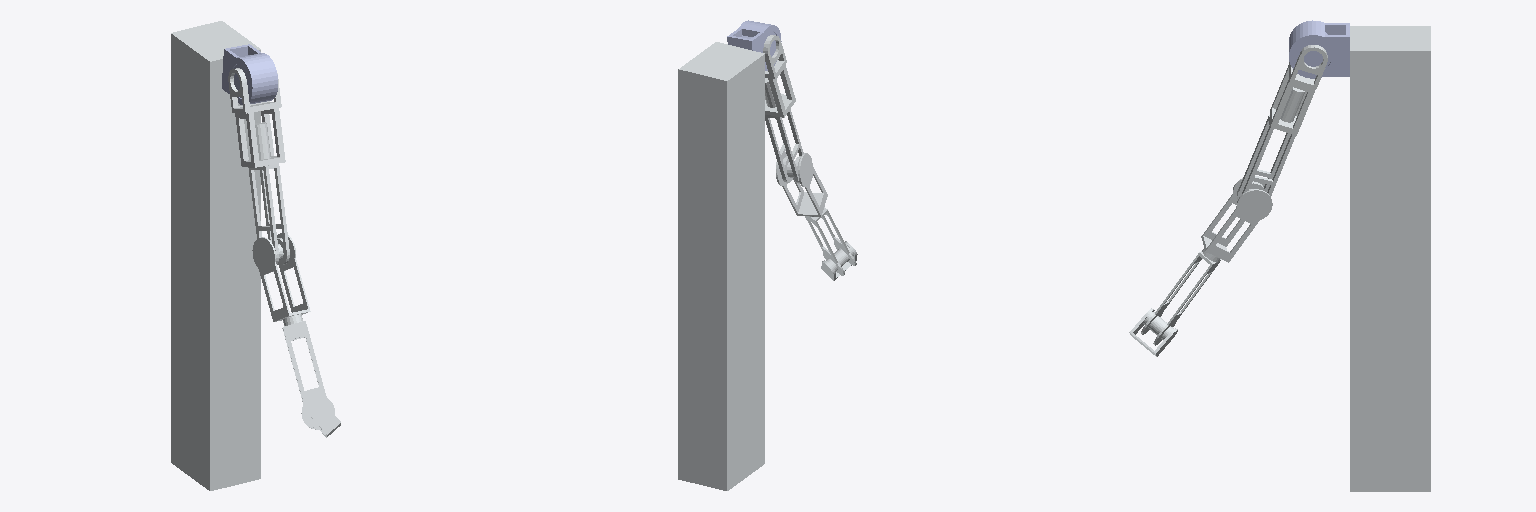
robot.urdf — koboker_5:
<robot
  name="koboker_5">
  <link
    name="base_link">
    <inertial>
      <origin
        xyz="0.075 -0.100043179942263 0.600223750609909"
        rpy="0 0 0" />
      <mass
        value="97.2381703507411" />
      <inertia
        ixx="12.001"
        ixy="0"
        ixz="0"
        iyy="0.50672"
        iyz="0.0023933"
        izz="11.859" />
    </inertial>
    <visual>
      <origin
        xyz="0 0 0"
        rpy="0 0 0" />
      <geometry>
        <mesh
          filename="package://koboker_5/meshes/base_link.STL" />
      </geometry>
      <material
        name="">
        <color
          rgba="0.898039215686275 0.917647058823529 0.929411764705882 1" />
      </material>
    </visual>
    <collision>
      <origin
        xyz="0 0 0"
        rpy="0 0 0" />
      <geometry>
        <mesh
          filename="package://koboker_5/meshes/base_link.STL" />
      </geometry>
    </collision>
  </link>
  <link
    name="Link_2">
    <inertial>
      <origin
        xyz="0 2.22044604925031E-16 0.0828639343196872"
        rpy="0 0 0" />
      <mass
        value="2.5152856908757" />
      <inertia
        ixx="0.031093"
        ixy="0"
        ixz="0"
        iyy="0.022389"
        iyz="0.011463"
        izz="0.011462" />
    </inertial>
    <visual>
      <origin
        xyz="0 0 0"
        rpy="0 0 0" />
      <geometry>
        <mesh
          filename="package://koboker_5/meshes/Link_2.STL" />
      </geometry>
      <material
        name="">
        <color
          rgba="0.792156862745098 0.819607843137255 0.933333333333333 1" />
      </material>
    </visual>
    <collision>
      <origin
        xyz="0 0 0"
        rpy="0 0 0" />
      <geometry>
        <mesh
          filename="package://koboker_5/meshes/Link_2.STL" />
      </geometry>
    </collision>
  </link>
  <joint
    name="Joint_1"
    type="continuous">
    <origin
      xyz="0.0750000000000002 -0.2 1.17"
      rpy="-1.5707963267949 -0.0608144257926208 -3.14159265358979" />
    <parent
      link="base_link" />
    <child
      link="Link_2" />
    <axis
      xyz="0 0 1" />
    <dynamics friction="0.2"/>
  </joint>
  <link
    name="Link_3">
    <inertial>
      <origin
        xyz="-4.24573570745324E-16 -0.12234706292479 -2.22044604925031E-16"
        rpy="0 0 0" />
      <mass
        value="1.44688363105601" />
      <inertia
        ixx="0.029297"
        ixy="0"
        ixz="0"
        iyy="0.0021158"
        iyz="0"
        izz="0.030125" />
    </inertial>
    <visual>
      <origin
        xyz="0 0 0"
        rpy="0 0 0" />
      <geometry>
        <mesh
          filename="package://koboker_5/meshes/Link_3.STL" />
      </geometry>
      <material
        name="">
        <color
          rgba="0.898039215686275 0.917647058823529 0.929411764705882 1" />
      </material>
    </visual>
    <collision>
      <origin
        xyz="0 0 0"
        rpy="0 0 0" />
      <geometry>
        <mesh
          filename="package://koboker_5/meshes/Link_3.STL" />
      </geometry>
    </collision>
  </link>
  <joint
    name="Joint_2"
    type="continuous">
    <origin
      xyz="0 0 0.0889999999999996"
      rpy="-2.79585728312551 5.41233724504764E-16 9.08995101411847E-16" />
    <parent
      link="Link_2" />
    <child
      link="Link_3" />
    <axis
      xyz="1 0 0" />
    <dynamics friction="0.2"/>
  </joint>
  <link
    name="Link_4">
    <inertial>
      <origin
        xyz="0 -0.155460108095431 -0.000182357215518236"
        rpy="0 0 0" />
      <mass
        value="0.461909268888393" />
      <inertia
        ixx="0.0079961"
        ixy="0"
        ixz="0"
        iyy="0.00042806"
        iyz="3.3548E-07"
        izz="0.008157" />
    </inertial>
    <visual>
      <origin
        xyz="0 0 0"
        rpy="0 0 0" />
      <geometry>
        <mesh
          filename="package://koboker_5/meshes/Link_4.STL" />
      </geometry>
      <material
        name="">
        <color
          rgba="0.898039215686275 0.917647058823529 0.929411764705882 1" />
      </material>
    </visual>
    <collision>
      <origin
        xyz="0 0 0"
        rpy="0 0 0" />
      <geometry>
        <mesh
          filename="package://koboker_5/meshes/Link_4.STL" />
      </geometry>
    </collision>
  </link>
  <joint
    name="Joint_3"
    type="continuous">
    <origin
      xyz="0 -0.191518860577662 0"
      rpy="2.36166624164541E-14 -1.41027329486371 -2.32693585573886E-14" />
    <parent
      link="Link_3" />
    <child
      link="Link_4" />
    <axis
      xyz="0 -1 0" />
    <dynamics friction="0.2"/>
  </joint>
  <link
    name="Link_5">
    <inertial>
      <origin
        xyz="-0.0660792538271653 -2.22044604925031E-16 -3.88578058618805E-16"
        rpy="0 0 0" />
      <mass
        value="0.72944846617856" />
      <inertia
        ixx="0.0015693"
        ixy="0"
        ixz="-0.00010415"
        iyy="0.006018"
        iyz="0"
        izz="0.0049422" />
    </inertial>
    <visual>
      <origin
        xyz="0 0 0"
        rpy="0 0 0" />
      <geometry>
        <mesh
          filename="package://koboker_5/meshes/Link_5.STL" />
      </geometry>
      <material
        name="">
        <color
          rgba="0.898039215686275 0.917647058823529 0.929411764705882 1" />
      </material>
    </visual>
    <collision>
      <origin
        xyz="0 0 0"
        rpy="0 0 0" />
      <geometry>
        <mesh
          filename="package://koboker_5/meshes/Link_5.STL" />
      </geometry>
    </collision>
  </link>
  <joint
    name="Joint_4"
    type="continuous">
    <origin
      xyz="0 -0.253481139422344 0"
      rpy="-3.14159265358979 1.2490009027033E-16 1.33135760141189" />
    <parent
      link="Link_4" />
    <child
      link="Link_5" />
    <axis
      xyz="0 0 1" />
    <dynamics friction="0.2"/>
  </joint>
  <link
    name="Link_6">
    <inertial>
      <origin
        xyz="0.167918427954662 -2.83106871279415E-15 1.33226762955019E-15"
        rpy="0 0 0" />
      <mass
        value="0.318922946362706" />
      <inertia
        ixx="0.0044401"
        ixy="0"
        ixz="-3.4407E-05"
        iyy="0.0031355"
        iyz="0"
        izz="0.0029936" />
    </inertial>
    <visual>
      <origin
        xyz="0 0 0"
        rpy="0 0 0" />
      <geometry>
        <mesh
          filename="package://koboker_5/meshes/Link_6.STL" />
      </geometry>
      <material
        name="">
        <color
          rgba="0.898039215686275 0.917647058823529 0.929411764705882 1" />
      </material>
    </visual>
    <collision>
      <origin
        xyz="0 0 0"
        rpy="0 0 0" />
      <geometry>
        <mesh
          filename="package://koboker_5/meshes/Link_6.STL" />
      </geometry>
    </collision>
  </link>
  <joint
    name="Joint_5"
    type="continuous">
    <origin
      xyz="-0.153390908669555 0 0"
      rpy="-0.956288619556786 -3.38618022510673E-15 -3.14159265358979" />
    <parent
      link="Link_5" />
    <child
      link="Link_6" />
    <axis
      xyz="1 0 0" />
    <dynamics friction="0.2"/>
  </joint>
  <link
    name="Link_7">
    <inertial>
      <origin
        xyz="-0.013147 -4.1633E-15 -3.3307E-16"
        rpy="0 0 0" />
      <mass
        value="0.43615" />
      <inertia
        ixx="0.0011943"
        ixy="0"
        ixz="8.9952E-05"
        iyy="0.0013881"
        iyz="0"
        izz="0.00031407" />
    </inertial>
    <visual>
      <origin
        xyz="0 0 0"
        rpy="0 0 0" />
      <geometry>
        <mesh
          filename="package://koboker_5/meshes/Link_7.STL" />
      </geometry>
      <material
        name="">
        <color
          rgba="0.89804 0.91765 0.92941 1" />
      </material>
    </visual>
    <collision>
      <origin
        xyz="0 0 0"
        rpy="0 0 0" />
      <geometry>
        <mesh
          filename="package://koboker_5/meshes/Link_7.STL" />
      </geometry>
    </collision>
  </link>
  <joint
    name="Joint_6"
    type="continuous">
    <origin
      xyz="0.267609091330445 0 0"
      rpy="1.67227343084164E-15 -2.44249065417534E-15 -2.68069262354812" />
    <parent
      link="Link_6" />
    <child
      link="Link_7" />
    <axis
      xyz="0 0 1" />
    <dynamics friction="0.2"/>
  </joint>
  <gazebo reference="base_link">
    <selfCollide>true</selfCollide>
  </gazebo>
  <gazebo reference="Link_2">
    <selfCollide>true</selfCollide>
  </gazebo>
  <gazebo reference="Link_3">
    <selfCollide>true</selfCollide>
  </gazebo>
  <gazebo reference="Link_4">
    <selfCollide>true</selfCollide>
  </gazebo>
  <gazebo reference="Link_5">
    <selfCollide>true</selfCollide>
  </gazebo>
  <gazebo reference="Link_6">
    <selfCollide>true</selfCollide>
  </gazebo>
  <gazebo reference="Link_7">
    <selfCollide>true</selfCollide>
  </gazebo>

  <transmission name="tran1">
    <type>transmission_interface/SimpleTransmission</type>
    <joint name="Joint_1">
      <hardwareInterface>hardware_interface/EffortJointInterface</hardwareInterface>
    </joint>
    <actuator name="motor1">
      <hardwareInterface>hardware_interface/EffortJointInterface</hardwareInterface>
    </actuator>
  </transmission>
  <transmission name="tran2">
    <type>transmission_interface/SimpleTransmission</type>
    <joint name="Joint_2">
      <hardwareInterface>hardware_interface/EffortJointInterface</hardwareInterface>
    </joint>
    <actuator name="motor2">
      <hardwareInterface>hardware_interface/EffortJointInterface</hardwareInterface>
    </actuator>
  </transmission>
  <transmission name="tran3">
    <type>transmission_interface/SimpleTransmission</type>
    <joint name="Joint_3">
      <hardwareInterface>hardware_interface/EffortJointInterface</hardwareInterface>
    </joint>
    <actuator name="motor3">
      <hardwareInterface>hardware_interface/EffortJointInterface</hardwareInterface>
    </actuator>
  </transmission>
  <transmission name="tran4">
    <type>transmission_interface/SimpleTransmission</type>
    <joint name="Joint_4">
      <hardwareInterface>hardware_interface/EffortJointInterface</hardwareInterface>
    </joint>
    <actuator name="motor4">
      <hardwareInterface>hardware_interface/EffortJointInterface</hardwareInterface>
    </actuator>
  </transmission>
  <transmission name="tran5">
    <type>transmission_interface/SimpleTransmission</type>
    <joint name="Joint_5">
      <hardwareInterface>hardware_interface/EffortJointInterface</hardwareInterface>
    </joint>
    <actuator name="motor5">
      <hardwareInterface>hardware_interface/EffortJointInterface</hardwareInterface>
    </actuator>
  </transmission>
  <transmission name="tran6">
    <type>transmission_interface/SimpleTransmission</type>
    <joint name="Joint_6">
      <hardwareInterface>hardware_interface/EffortJointInterface</hardwareInterface>
    </joint>
    <actuator name="motor6">
      <hardwareInterface>hardware_interface/EffortJointInterface</hardwareInterface>
    </actuator>
  </transmission>

  <gazebo>
    <plugin name="gazebo_ros_control" filename="libgazebo_ros_control.so">
      <robotNamespace>/koboker_5</robotNamespace>
      <robotSimType>gazebo_ros_control/DefaultRobotHWSim</robotSimType>
      <legacyModeNS>true</legacyModeNS>
    </plugin>
  </gazebo>
</robot>

--- Render facts (derived) ---
The picture shows the robot from 3 angles, left to right: view 1: azimuth 30°, elevation 25°; view 2: azimuth 150°, elevation 25°; view 3: azimuth 270°, elevation 25°; orthographic projection.
Model koboker_5 with 7 links and 6 joints (6 continuous), rooted at base_link, posed all joints at 0.
Visible links, largest first — view 1: base_link, Link_3, Link_5, Link_2, Link_4, Link_6, Link_7; view 2: base_link, Link_3, Link_5, Link_4, Link_2, Link_6, Link_7; view 3: base_link, Link_2, Link_3, Link_5, Link_4, Link_6, Link_7.
Boxes of the visible links, x1,y1,x2,y2 form: base_link: (171,21,260,490); Link_3: (228,68,285,167); Link_5: (252,233,310,325); Link_2: (222,44,277,104); Link_4: (248,164,289,265); Link_6: (282,321,334,429); Link_7: (309,402,340,437); base_link: (678,42,764,490); Link_3: (763,35,795,117); Link_5: (776,152,827,216); Link_4: (765,109,803,183); Link_2: (727,20,781,70); Link_6: (805,207,856,275); Link_7: (821,241,857,280); base_link: (1350,26,1430,491); Link_2: (1289,20,1349,78); Link_3: (1270,45,1327,135); Link_5: (1201,178,1272,262); Link_4: (1237,115,1295,198); Link_6: (1141,251,1221,345); Link_7: (1129,308,1177,356).
Size in the robot's own frame: 0.1536 by 0.7439 by 1.23 metres.
Meshes: 7 distinct files referenced, 7 mesh visuals loaded (7 binary STL).
